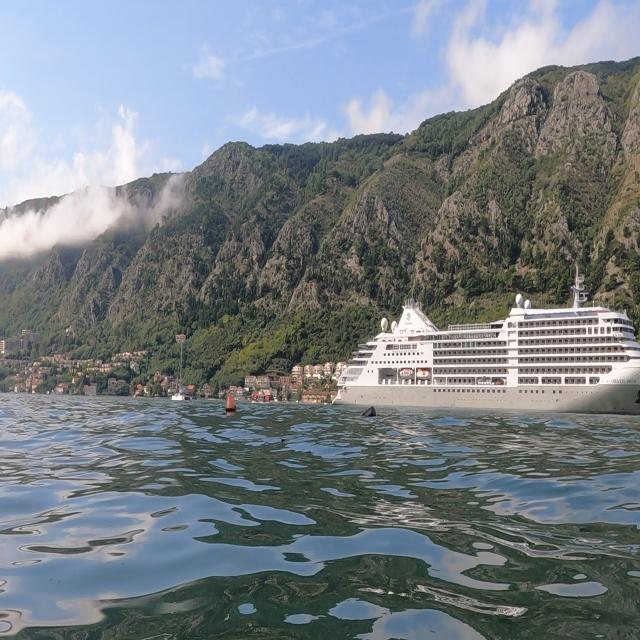boat: (330, 259, 638, 417), (168, 330, 195, 408)
buoy: (224, 388, 244, 422), (357, 403, 380, 422)
